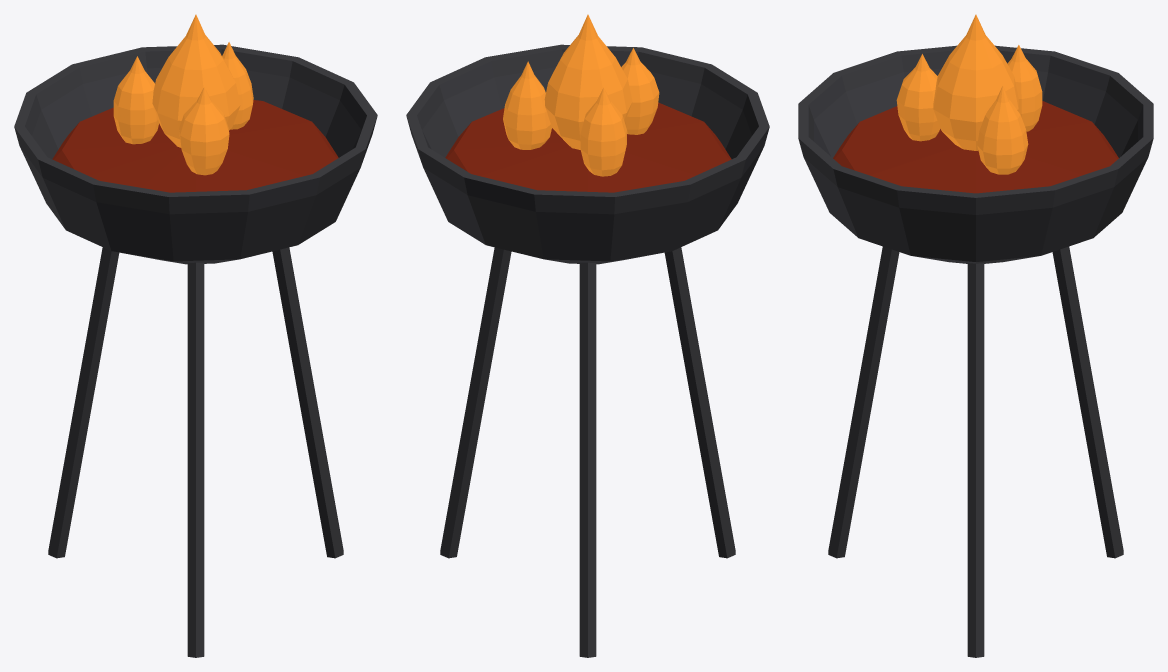
The model's file is ohnivy_kos.glb.
3 views of the same model, side by side, from view 1: azimuth 30°, elevation 25°; view 2: azimuth 150°, elevation 25°; view 3: azimuth 270°, elevation 25° (orthographic).
Visible parts, largest first — view 1: ohnivy_kos, noc; view 2: ohnivy_kos, noc; view 3: ohnivy_kos, noc.
Part boxes in pixels (bbox=[...]): ohnivy_kos: bbox=[14, 44, 377, 657]; noc: bbox=[52, 14, 338, 192]; ohnivy_kos: bbox=[406, 44, 769, 657]; noc: bbox=[445, 14, 731, 192]; ohnivy_kos: bbox=[798, 45, 1153, 657]; noc: bbox=[833, 14, 1118, 193].
Size of the model in its own units: 0.68 by 1.18 by 0.6629.
Materials: 2 (2 with a texture image).
